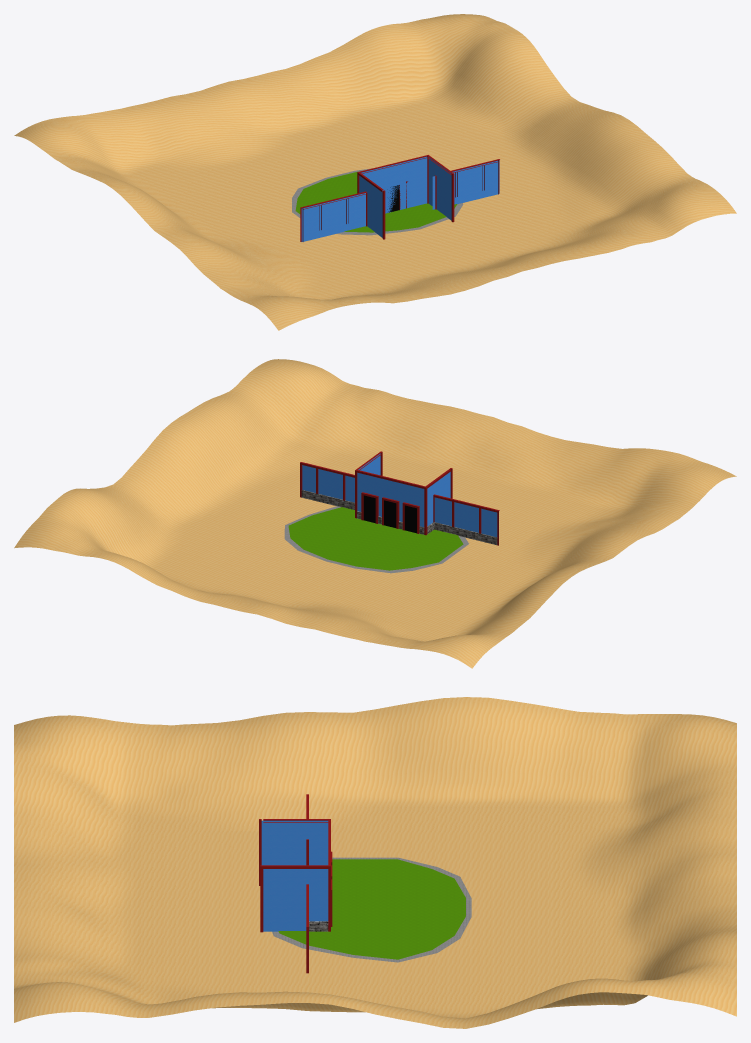
The model's file is scenehub.glb.
The picture shows the model from 3 angles, top to bottom: view 1: azimuth 30°, elevation 25°; view 2: azimuth 150°, elevation 25°; view 3: azimuth 270°, elevation 25°; orthographic projection. The views are drawn at different scales.
Parts seen in each view (by area): view 1: hubass_ref; view 2: hubass_ref; view 3: hubass_ref.
Boxes of the visible parts, left/top/right/bottom form: hubass_ref: left=14, top=14, right=736, bottom=330; hubass_ref: left=14, top=359, right=736, bottom=668; hubass_ref: left=14, top=697, right=736, bottom=1028.
Bounding box in the file's own units: 85.47 × 9.1 × 85.47.
Materials: 10 (6 with a texture image).
